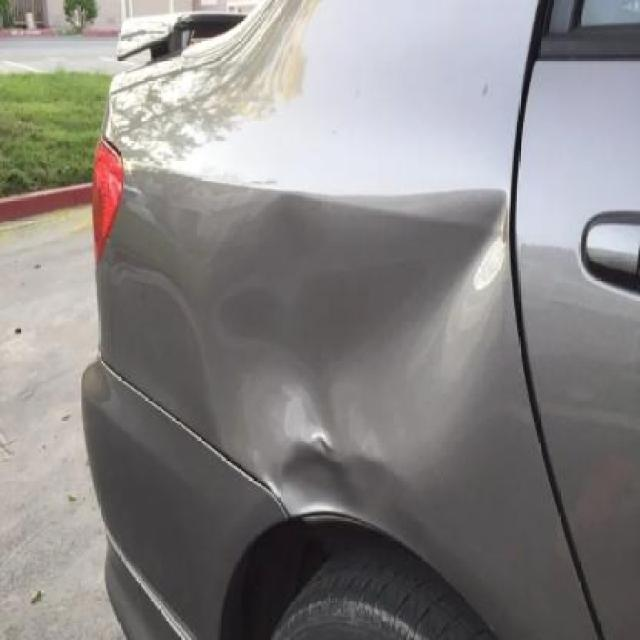minor: (109, 171, 509, 518)
